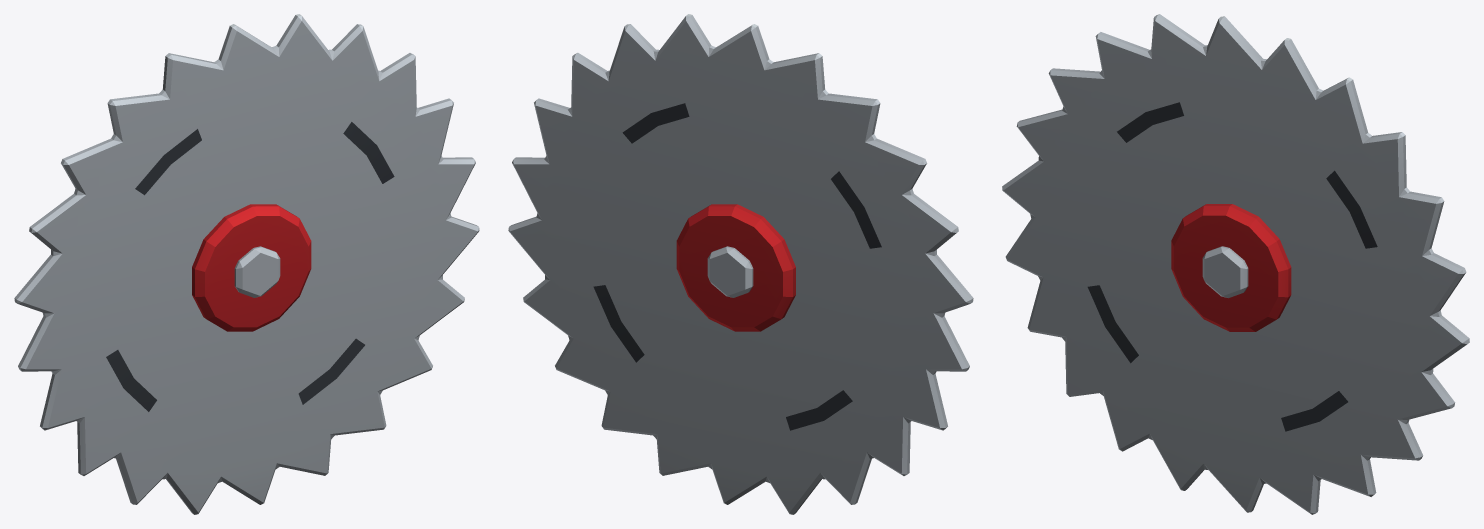
File: saw_blade.glb
3 views of the same model, side by side, from view 1: azimuth 30°, elevation 25°; view 2: azimuth 150°, elevation 25°; view 3: azimuth 330°, elevation 25° (orthographic).
Visible parts, largest first — view 1: Blade; view 2: Blade; view 3: Blade.
Boxes of the visible parts, bbox=[...] form: Blade: bbox=[14, 14, 479, 514]; Blade: bbox=[508, 14, 973, 514]; Blade: bbox=[1002, 14, 1469, 514].
Bounding box in the file's own units: 1.08 × 1.09 × 0.11.
